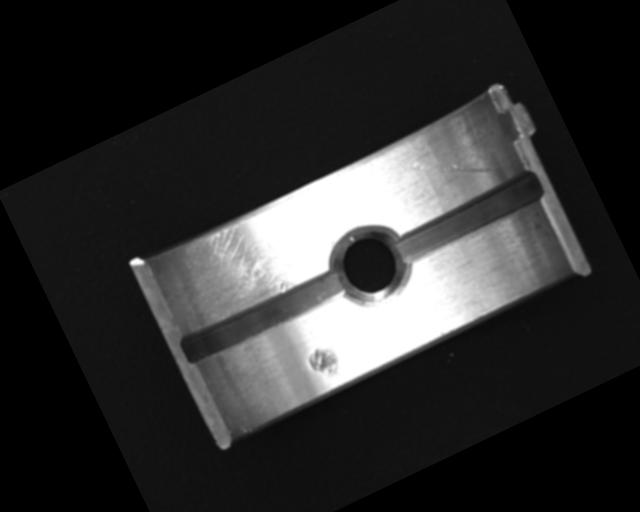bruise: (304, 342, 344, 386)
gap: (177, 260, 353, 369), (392, 169, 547, 266)
hole: (320, 212, 419, 315)
nick: (407, 130, 497, 205)
scratch: (153, 187, 332, 336)
